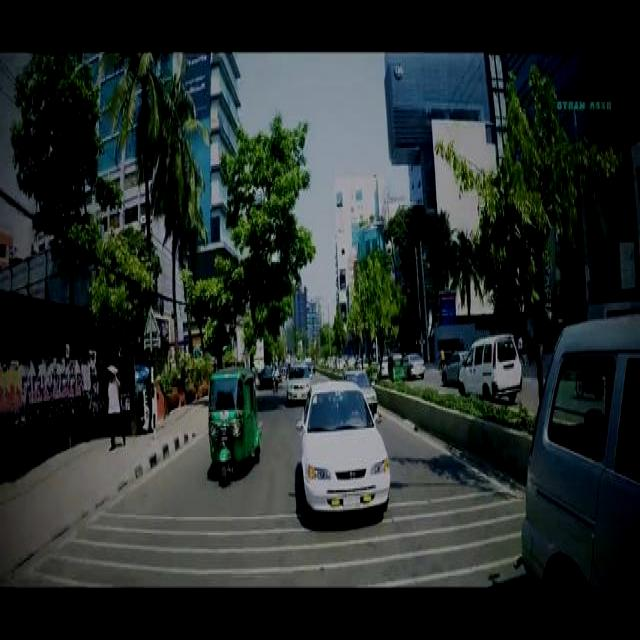car: (304, 376, 393, 510), (346, 368, 380, 407), (289, 358, 312, 396), (441, 348, 467, 380), (405, 351, 428, 373)
motorcycle: (209, 362, 264, 482), (390, 348, 407, 376)
truck: (460, 330, 525, 394)
